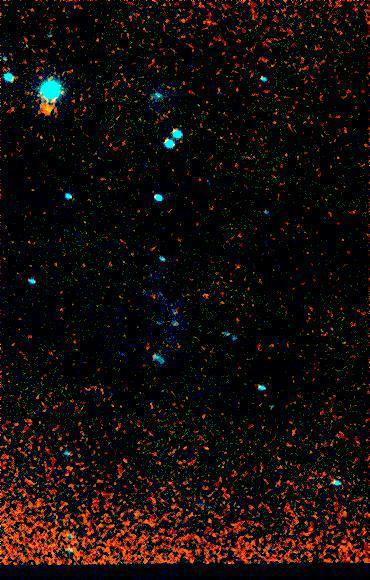star: (32, 95, 62, 125)
